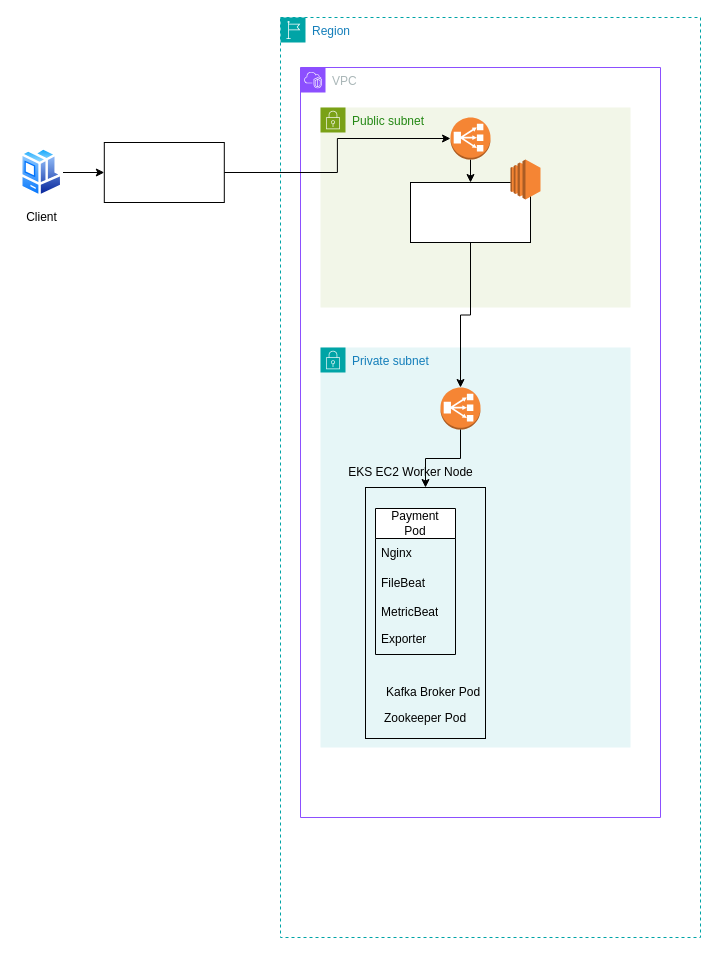
The diagram is 719 pixels wide and 955 high, and some of its shapes have lost their labels. The centre of each missing label's shape, as x and y in pixels:
Akamai ( DNS ): pixel 163 172
Kong Control Plane and Data Plane: pixel 470 212
